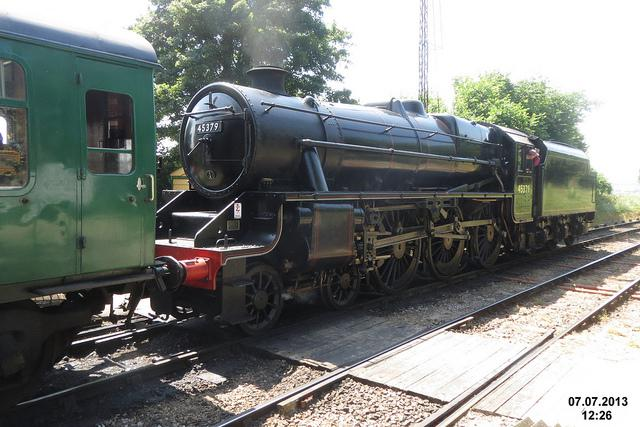Train: (152, 62, 596, 334)
